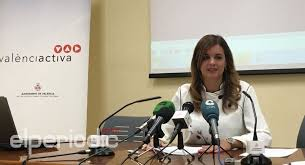person: (180, 26, 251, 113)
